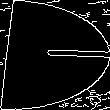L_W: (5, 38, 105, 72)
